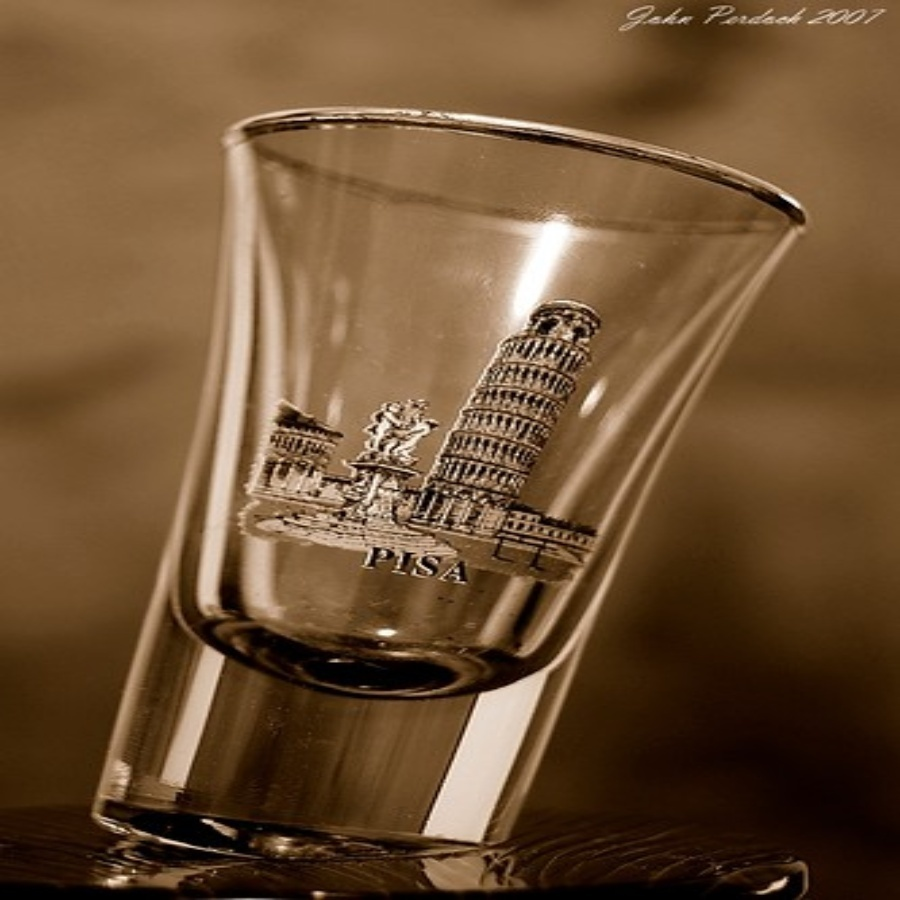whiskey: (75, 121, 785, 873)
